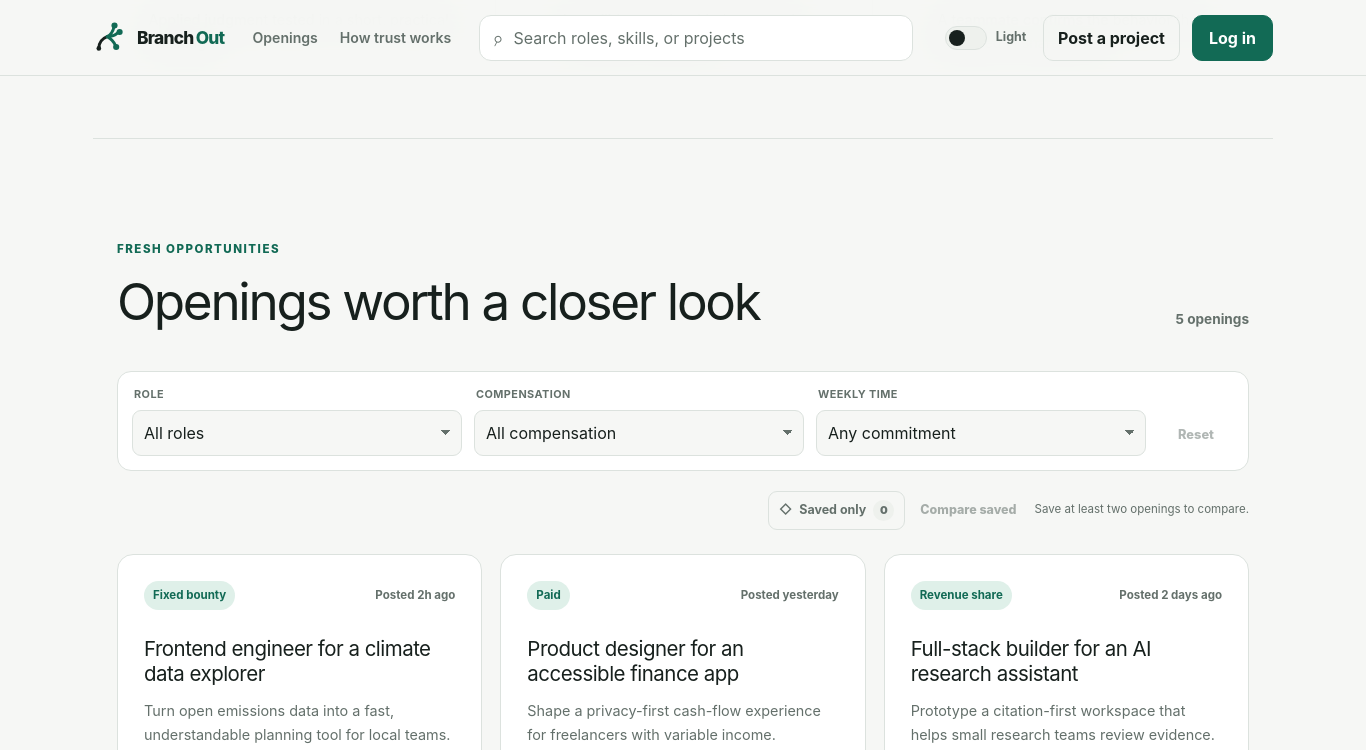
Test case: HomeExperience › combines role and compensation filters and resets them
(page scrolled)
Expected: the text "5 openings" is shown, [1176,309,1249,329]
Select "Design" in the dropdown named "filter by role" at [297, 433], box [132,410,462,456]
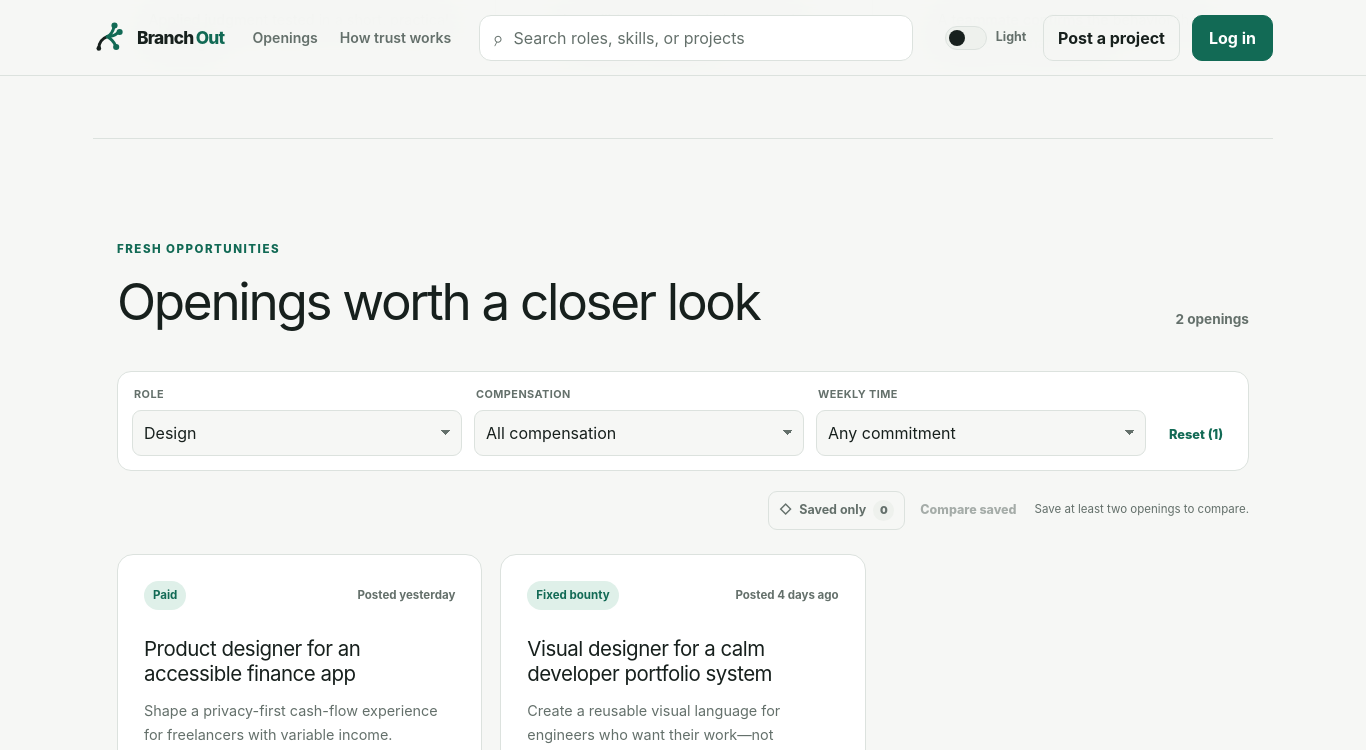
Now the text "2 openings" is shown, box [1175,309,1249,329]
Select "Paid" in the dropdown named "filter by compensation" at [639, 433], box [474,410,804,456]
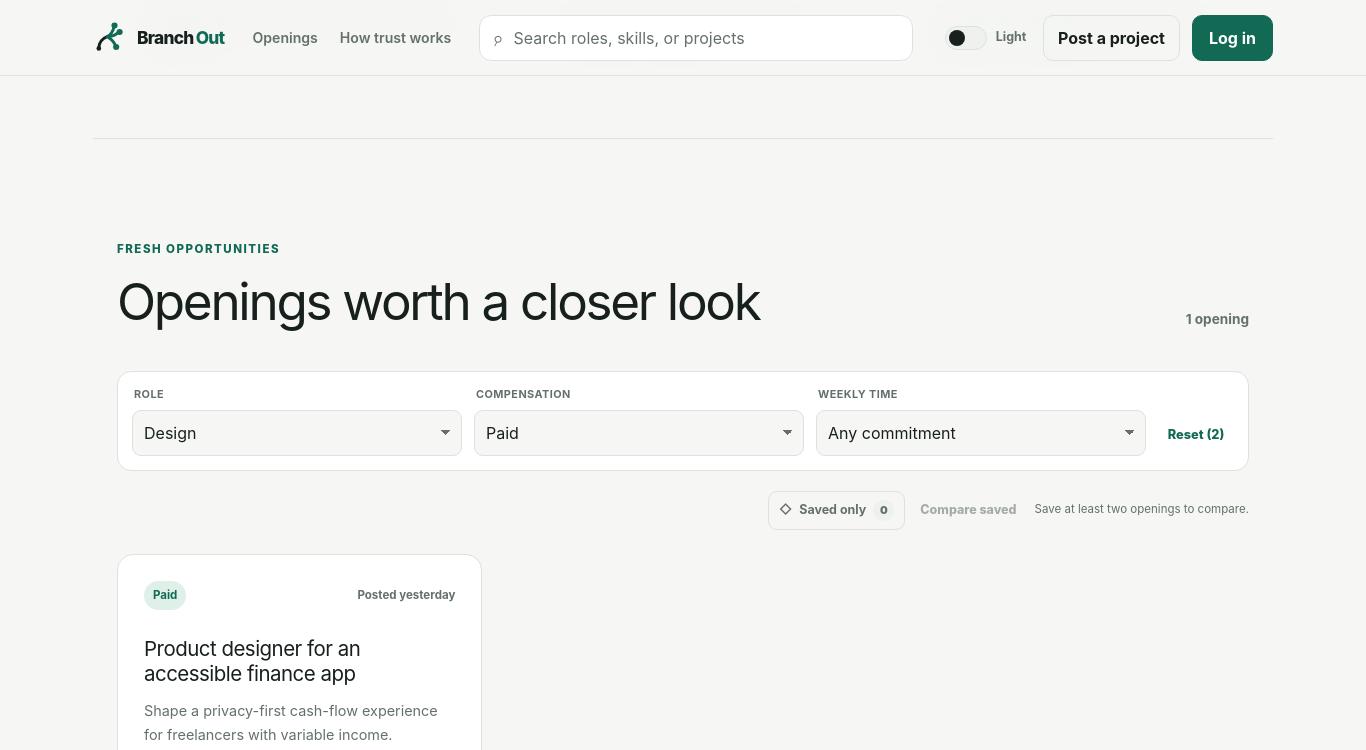
Expected: the heading "Product designer for an accessible finance app" is shown, [144,636,360,686]
Now the text "1 opening" is shown, box [1186,309,1249,329]
Click the button "Reset (2)".
click(1196, 435)  # box [1158,414,1234,456]
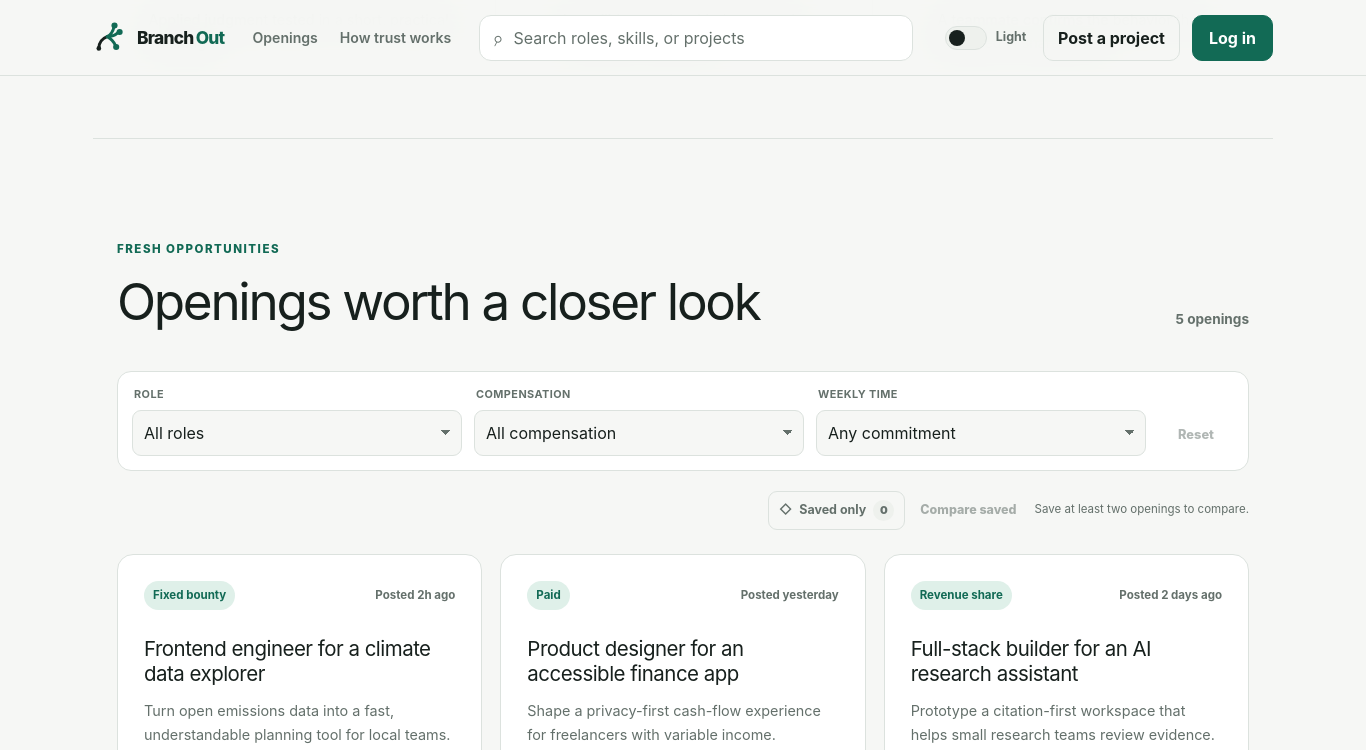
Now the text "5 openings" is shown, box [1176,309,1249,329]
